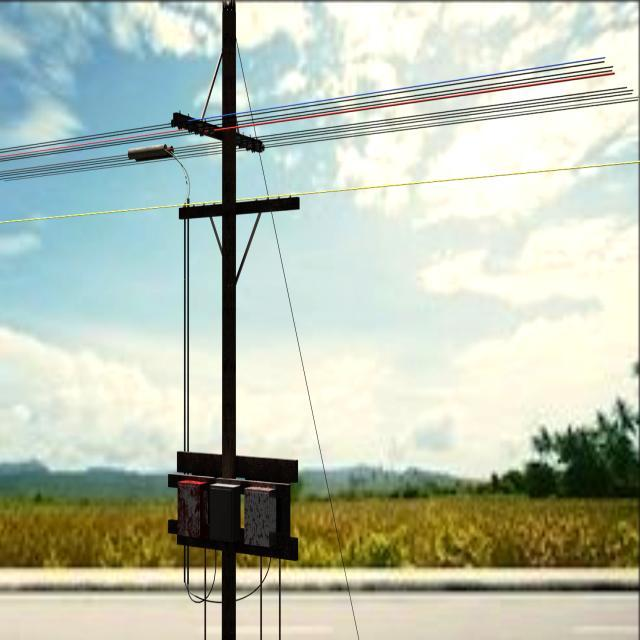crossarm: (167, 522, 299, 563), (171, 111, 265, 153), (176, 449, 298, 481), (181, 197, 300, 219)
pole: (222, 0, 236, 640)
transformer: (244, 487, 276, 548), (211, 482, 240, 539), (178, 483, 206, 539)
wire: (236, 36, 360, 640), (0, 55, 606, 151), (0, 59, 605, 154), (0, 71, 615, 163), (0, 65, 614, 157), (0, 89, 634, 177), (0, 85, 628, 173), (0, 95, 640, 180), (4, 98, 639, 183), (0, 156, 640, 226), (182, 216, 274, 610), (185, 219, 218, 607), (202, 550, 207, 638), (259, 555, 264, 640), (277, 561, 282, 640)
